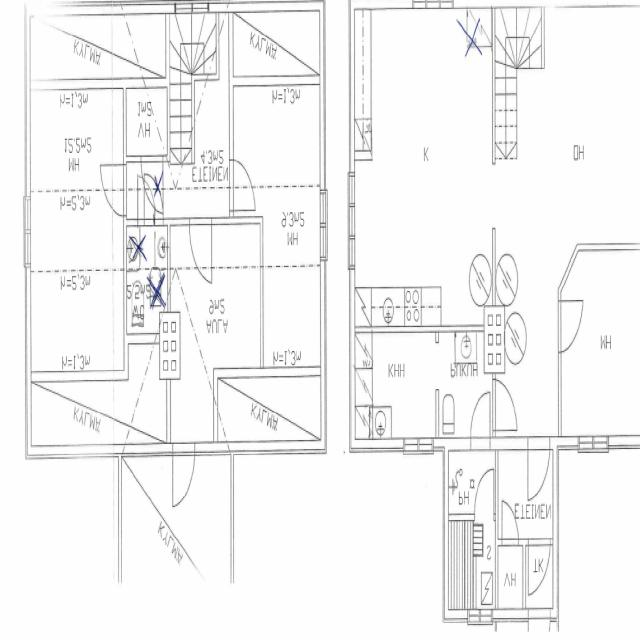door: (173, 445, 195, 511), (528, 438, 550, 503), (528, 538, 551, 598), (492, 379, 518, 431), (229, 159, 255, 210), (558, 302, 584, 352), (190, 216, 212, 274), (141, 157, 163, 213), (102, 166, 127, 215), (471, 392, 490, 452), (475, 467, 494, 519), (502, 498, 519, 544), (137, 178, 154, 224)
